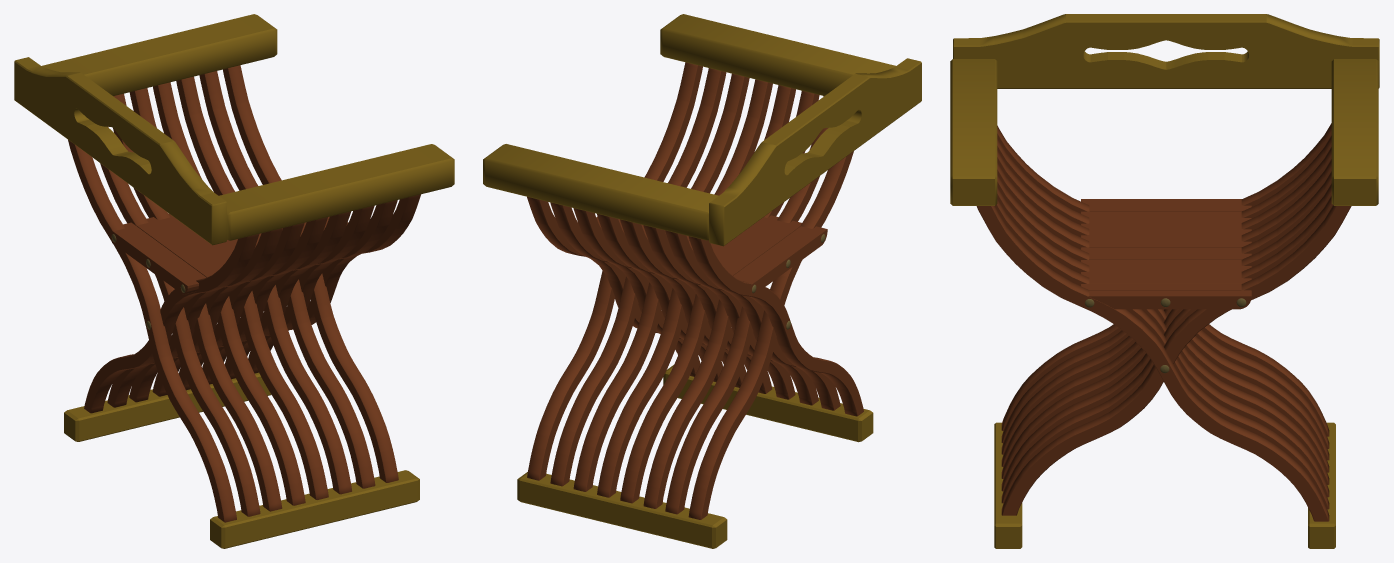
File: Silla medieval.fbx
The picture shows the model from 3 angles, left to right: view 1: azimuth 30°, elevation 25°; view 2: azimuth 150°, elevation 25°; view 3: azimuth 270°, elevation 25°; orthographic projection. The views are drawn at different scales.
Parts seen in each view (by area): view 1: Cube.001; view 2: Cube.001; view 3: Cube.001.
Boxes of the visible parts, x1,y1,x2,y2 form: Cube.001: [14, 14, 454, 548]; Cube.001: [483, 14, 921, 548]; Cube.001: [950, 14, 1379, 548].
Size of the model in its own units: 1.14 by 1.75 by 1.63.
